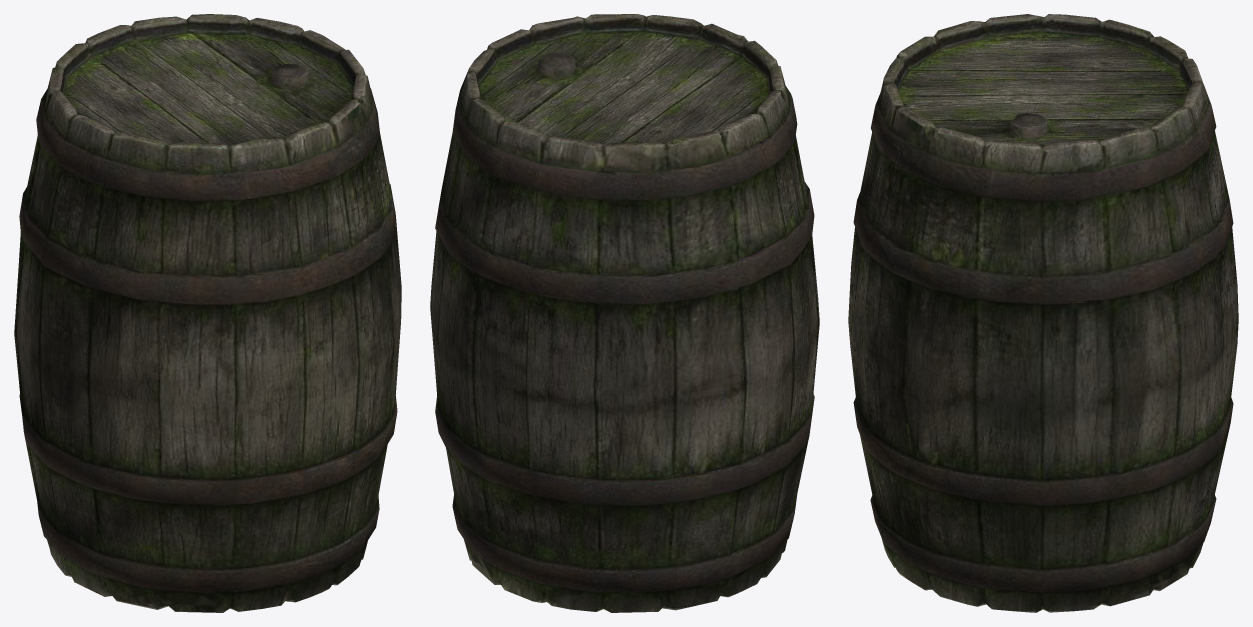
Rendered from barrel.glb.
3 renders of one model, left to right at view 1: azimuth 30°, elevation 25°; view 2: azimuth 150°, elevation 25°; view 3: azimuth 270°, elevation 25°, orthographic.
Visible parts, largest first — view 1: Mesh_0; view 2: Mesh_0; view 3: Mesh_0.
Boxes of the visible parts, <box> form: Mesh_0: <box>14,14,401,612</box>; Mesh_0: <box>430,14,819,612</box>; Mesh_0: <box>848,14,1238,612</box>.
Bounding box in the file's own units: 1.43 × 1.9 × 1.44.
1 material, 1 textured.
